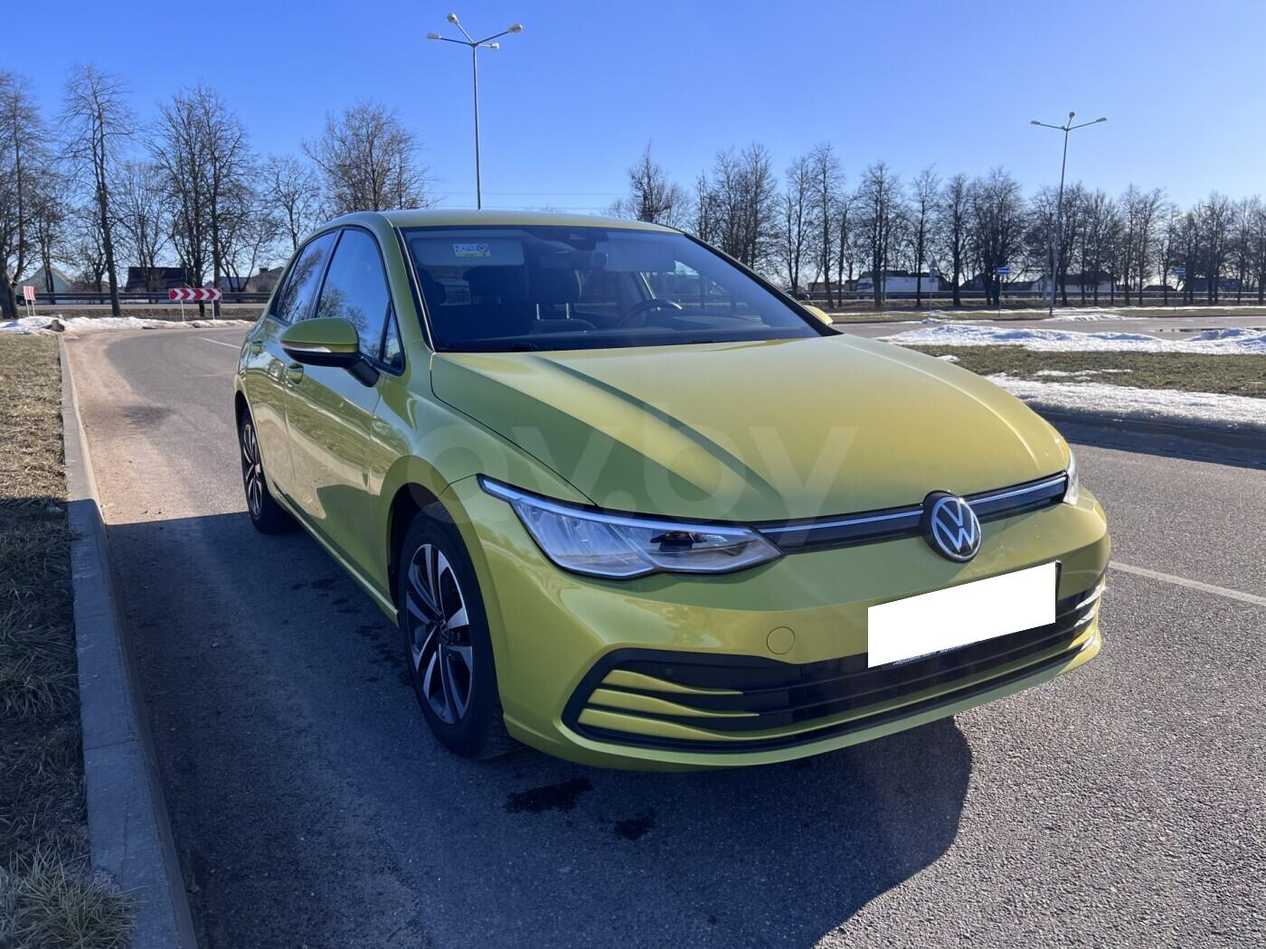Golf_2019: (224, 205, 1116, 769)
